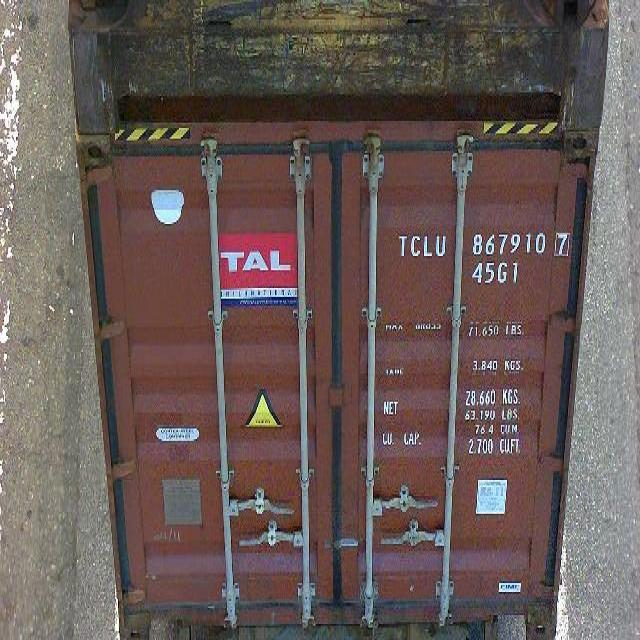ISO: (472, 261, 522, 284)
container_number: (404, 231, 566, 259)
